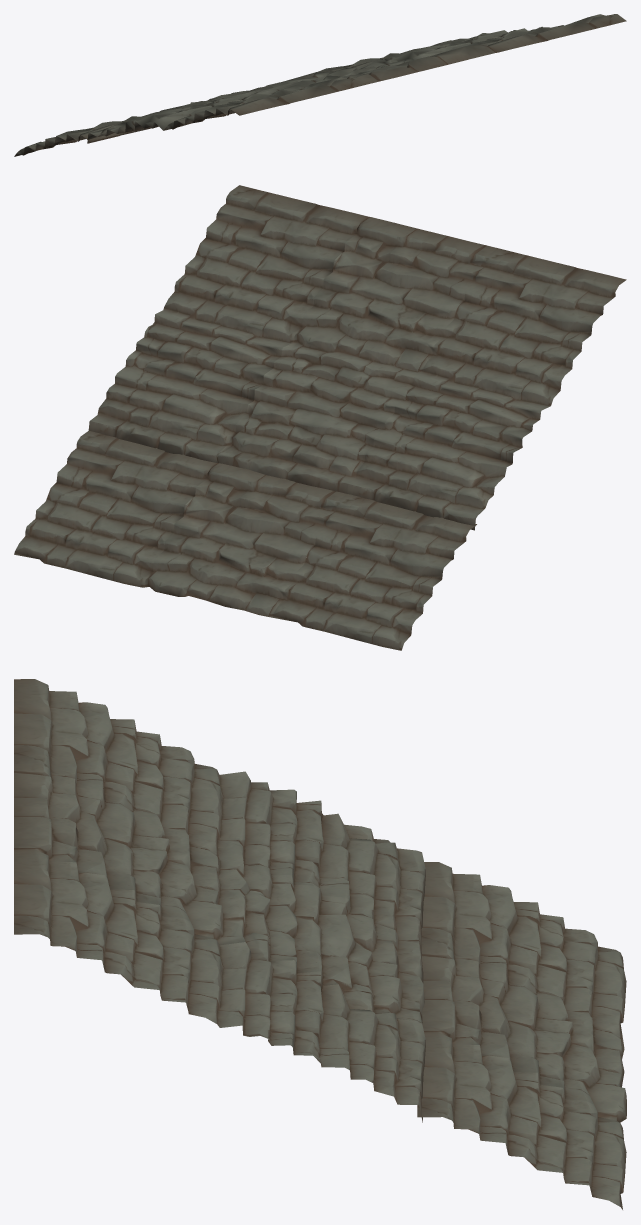
File: SM_FW01_Ruins_Int_Stairs_6x3x6_01.fbx
The picture shows the model from 3 angles, top to bottom: view 1: azimuth 30°, elevation 25°; view 2: azimuth 150°, elevation 25°; view 3: azimuth 270°, elevation 25°; orthographic projection. The views are drawn at different scales.
Visible parts, largest first — view 1: SM_FW01_Ruins_Int_Stairs_6x3x6_01_LOD0; view 2: SM_FW01_Ruins_Int_Stairs_6x3x6_01_LOD0; view 3: SM_FW01_Ruins_Int_Stairs_6x3x6_01_LOD0.
Boxes of the visible parts, x1,y1,x2,y2 form: SM_FW01_Ruins_Int_Stairs_6x3x6_01_LOD0: [14, 14, 626, 156]; SM_FW01_Ruins_Int_Stairs_6x3x6_01_LOD0: [14, 185, 626, 650]; SM_FW01_Ruins_Int_Stairs_6x3x6_01_LOD0: [14, 679, 626, 1209].
Size of what is drawn, in the model's own units: 5.99 by 3.08 by 6.08.
